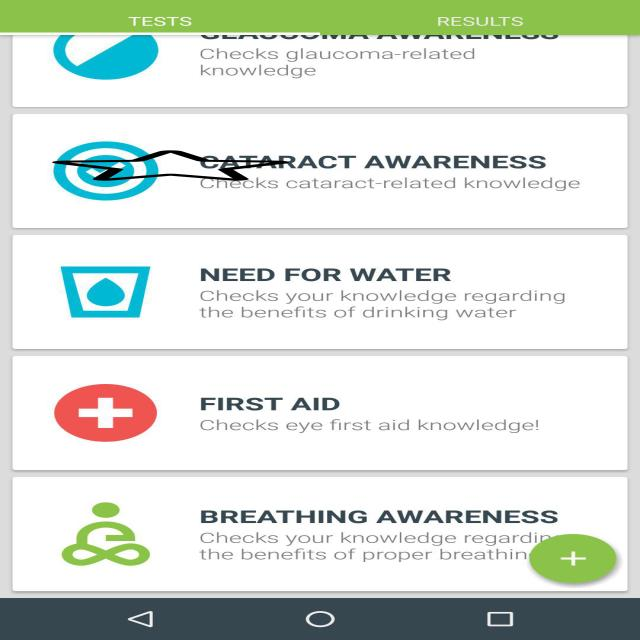forced continuity: (52, 150, 289, 181)
